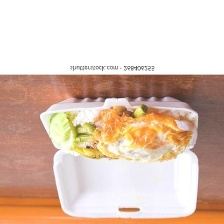foam_box: (34, 92, 203, 222)
